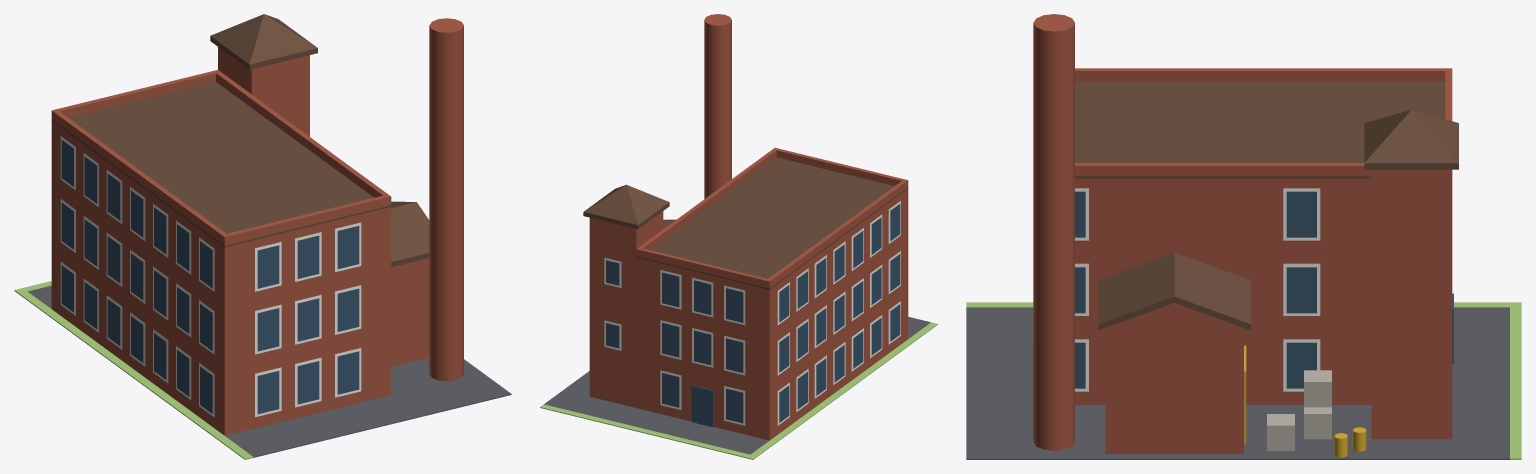
The picture shows the model from 3 angles, left to right: view 1: azimuth 30°, elevation 25°; view 2: azimuth 150°, elevation 25°; view 3: azimuth 270°, elevation 25°; orthographic projection. The views are drawn at different scales.
Visible parts, largest first — view 1: wall, roof (×3), window_glass (×30), smoke_stack, asphalt, parapet (×4), stair_tower, boiler_house, lawn; view 2: wall, roof (×2), stair_tower, parapet (×4), smoke_stack, asphalt, window_glass (×8), lawn (×2), door; view 3: roof (×4), wall, asphalt, stair_tower, smoke_stack, boiler_house, parapet (×2), window_glass (×3), bale (×3), lawn (×2), gable, window_frame (×2).
Part boxes in pixels (x1,y1,x2,y2): wall: (51, 121, 391, 435); roof (×3): (51, 14, 429, 267); window_glass (×30): (61, 140, 359, 413); smoke_stack: (429, 18, 463, 381); asphalt: (28, 285, 511, 457); parapet (×4): (51, 70, 391, 245); stair_tower: (218, 47, 309, 136); boiler_house: (391, 258, 429, 366); lawn: (14, 288, 253, 459); wall: (636, 189, 908, 440); roof (×2): (583, 157, 908, 289); stair_tower: (589, 211, 663, 407); parapet (×4): (636, 147, 908, 288); smoke_stack: (704, 14, 731, 198); asphalt: (544, 317, 930, 454); window_glass (×8): (662, 272, 743, 423); lawn (×2): (540, 322, 937, 459); door: (691, 385, 713, 427); roof (×4): (1075, 81, 1458, 330); wall: (1075, 178, 1371, 404); asphalt: (966, 307, 1509, 459); stair_tower: (1371, 169, 1452, 439); smoke_stack: (1033, 14, 1074, 450); boiler_house: (1105, 328, 1243, 453); parapet (×2): (1075, 68, 1445, 176); window_glass (×3): (1286, 191, 1316, 388); bale (×3): (1267, 370, 1331, 450); lawn (×2): (966, 302, 1521, 459); gable: (1106, 303, 1242, 327); window_frame (×2): (1283, 188, 1320, 315).
Bounding box in the file's own units: 16 × 20.06 × 24.
